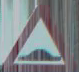Speed Breaker ahead: (7, 2, 69, 67)
